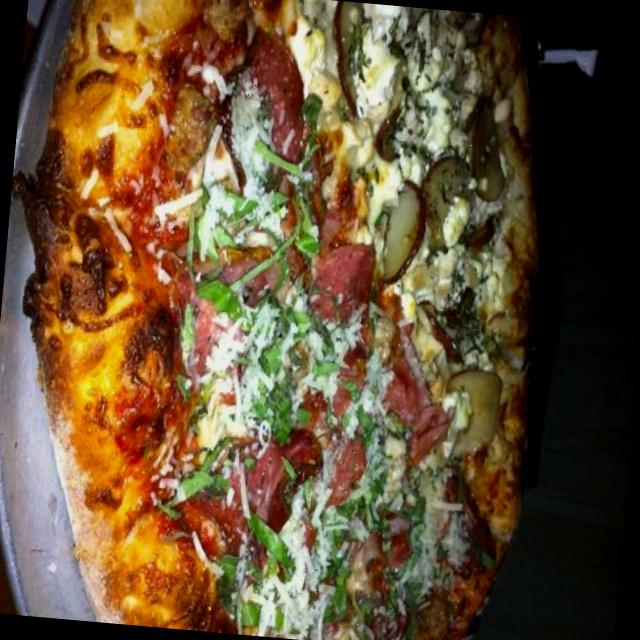pepperoni: (206, 28, 311, 200), (174, 232, 285, 378), (231, 418, 327, 572), (304, 232, 378, 342), (318, 419, 370, 507), (371, 503, 422, 578), (376, 350, 426, 424), (401, 398, 447, 467)
pizza: (10, 0, 537, 640)
